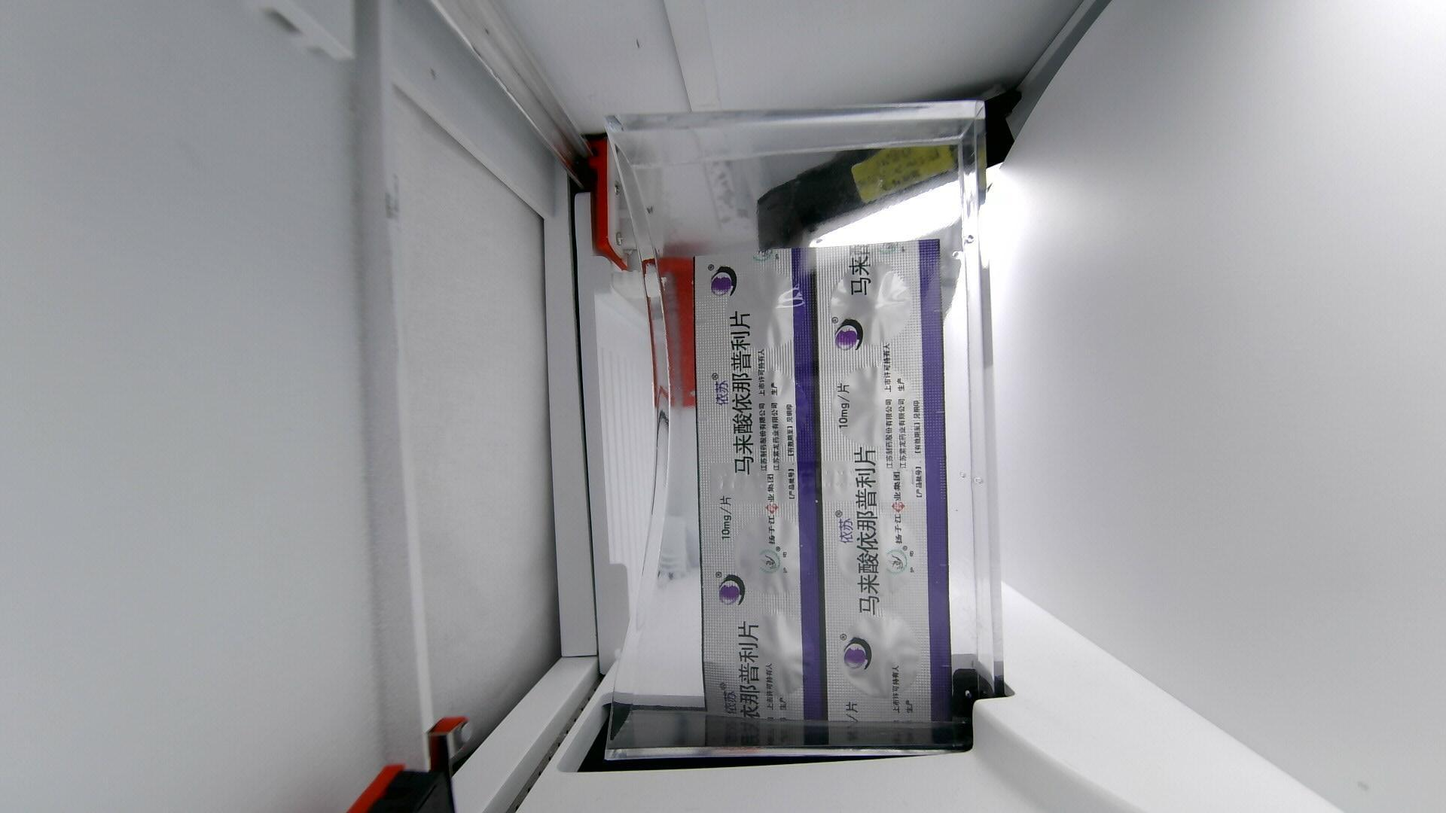Pill Back: (834, 612, 927, 706), (829, 361, 920, 449), (828, 266, 919, 344), (715, 364, 799, 448), (731, 507, 807, 596), (713, 278, 804, 352), (831, 522, 920, 597), (739, 613, 813, 703)
